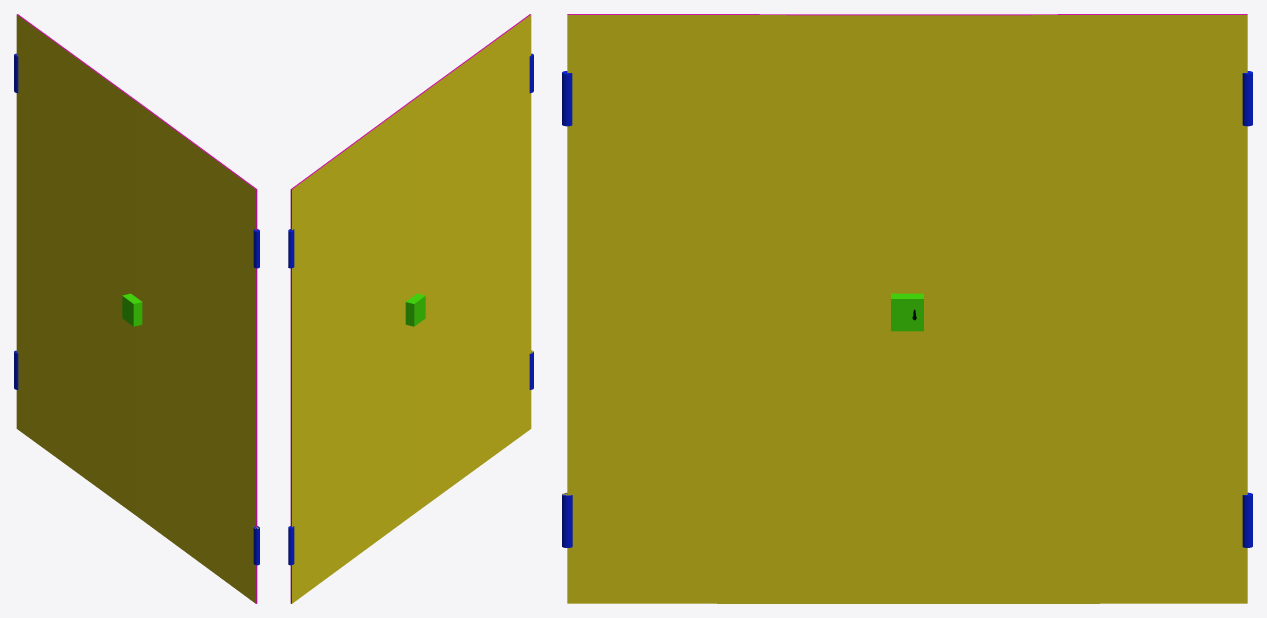
The model's file is simpleGarageDoorNoTextMaterials.fbx.
The picture shows the model from 3 angles, left to right: view 1: azimuth 30°, elevation 25°; view 2: azimuth 150°, elevation 25°; view 3: azimuth 270°, elevation 25°; orthographic projection. The views are drawn at different scales.
Visible parts, largest first — view 1: Цилиндр.002; view 2: Цилиндр.002; view 3: Цилиндр.002.
Part boxes in pixels (bbox=[...]): Цилиндр.002: bbox=[14, 14, 259, 603]; Цилиндр.002: bbox=[288, 14, 533, 603]; Цилиндр.002: bbox=[562, 14, 1252, 603].
Size of the model in its own units: 9.12 by 200 by 213.
